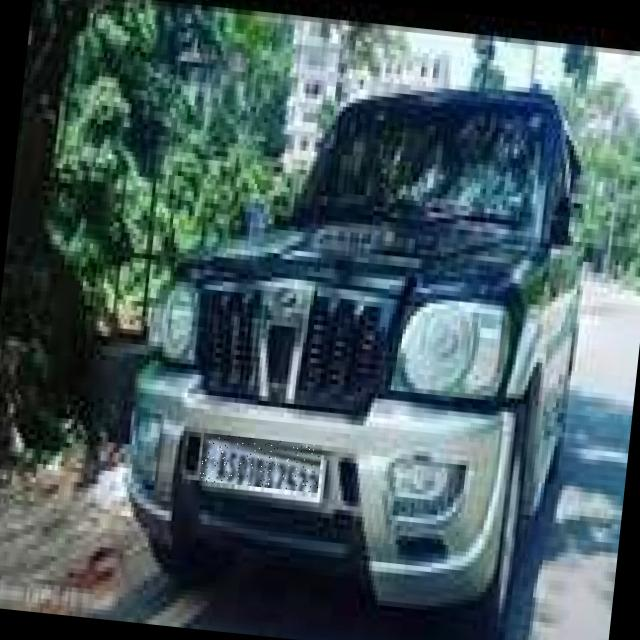Plate: (200, 434, 323, 494)
